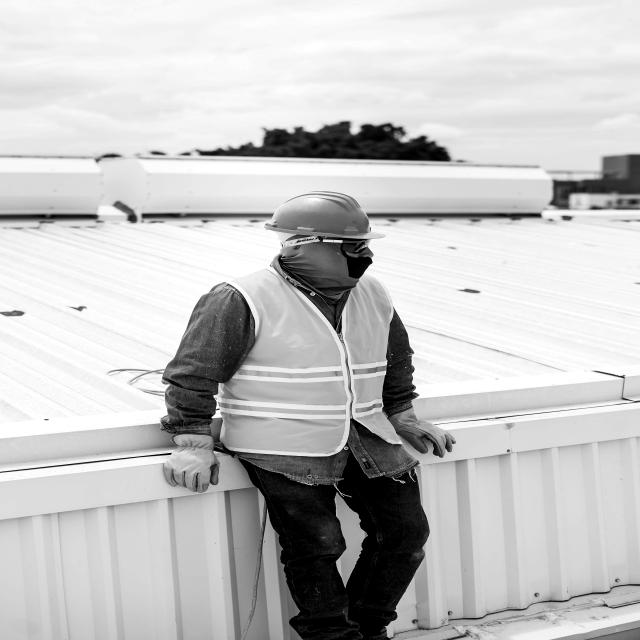Vest: (217, 268, 406, 455)
